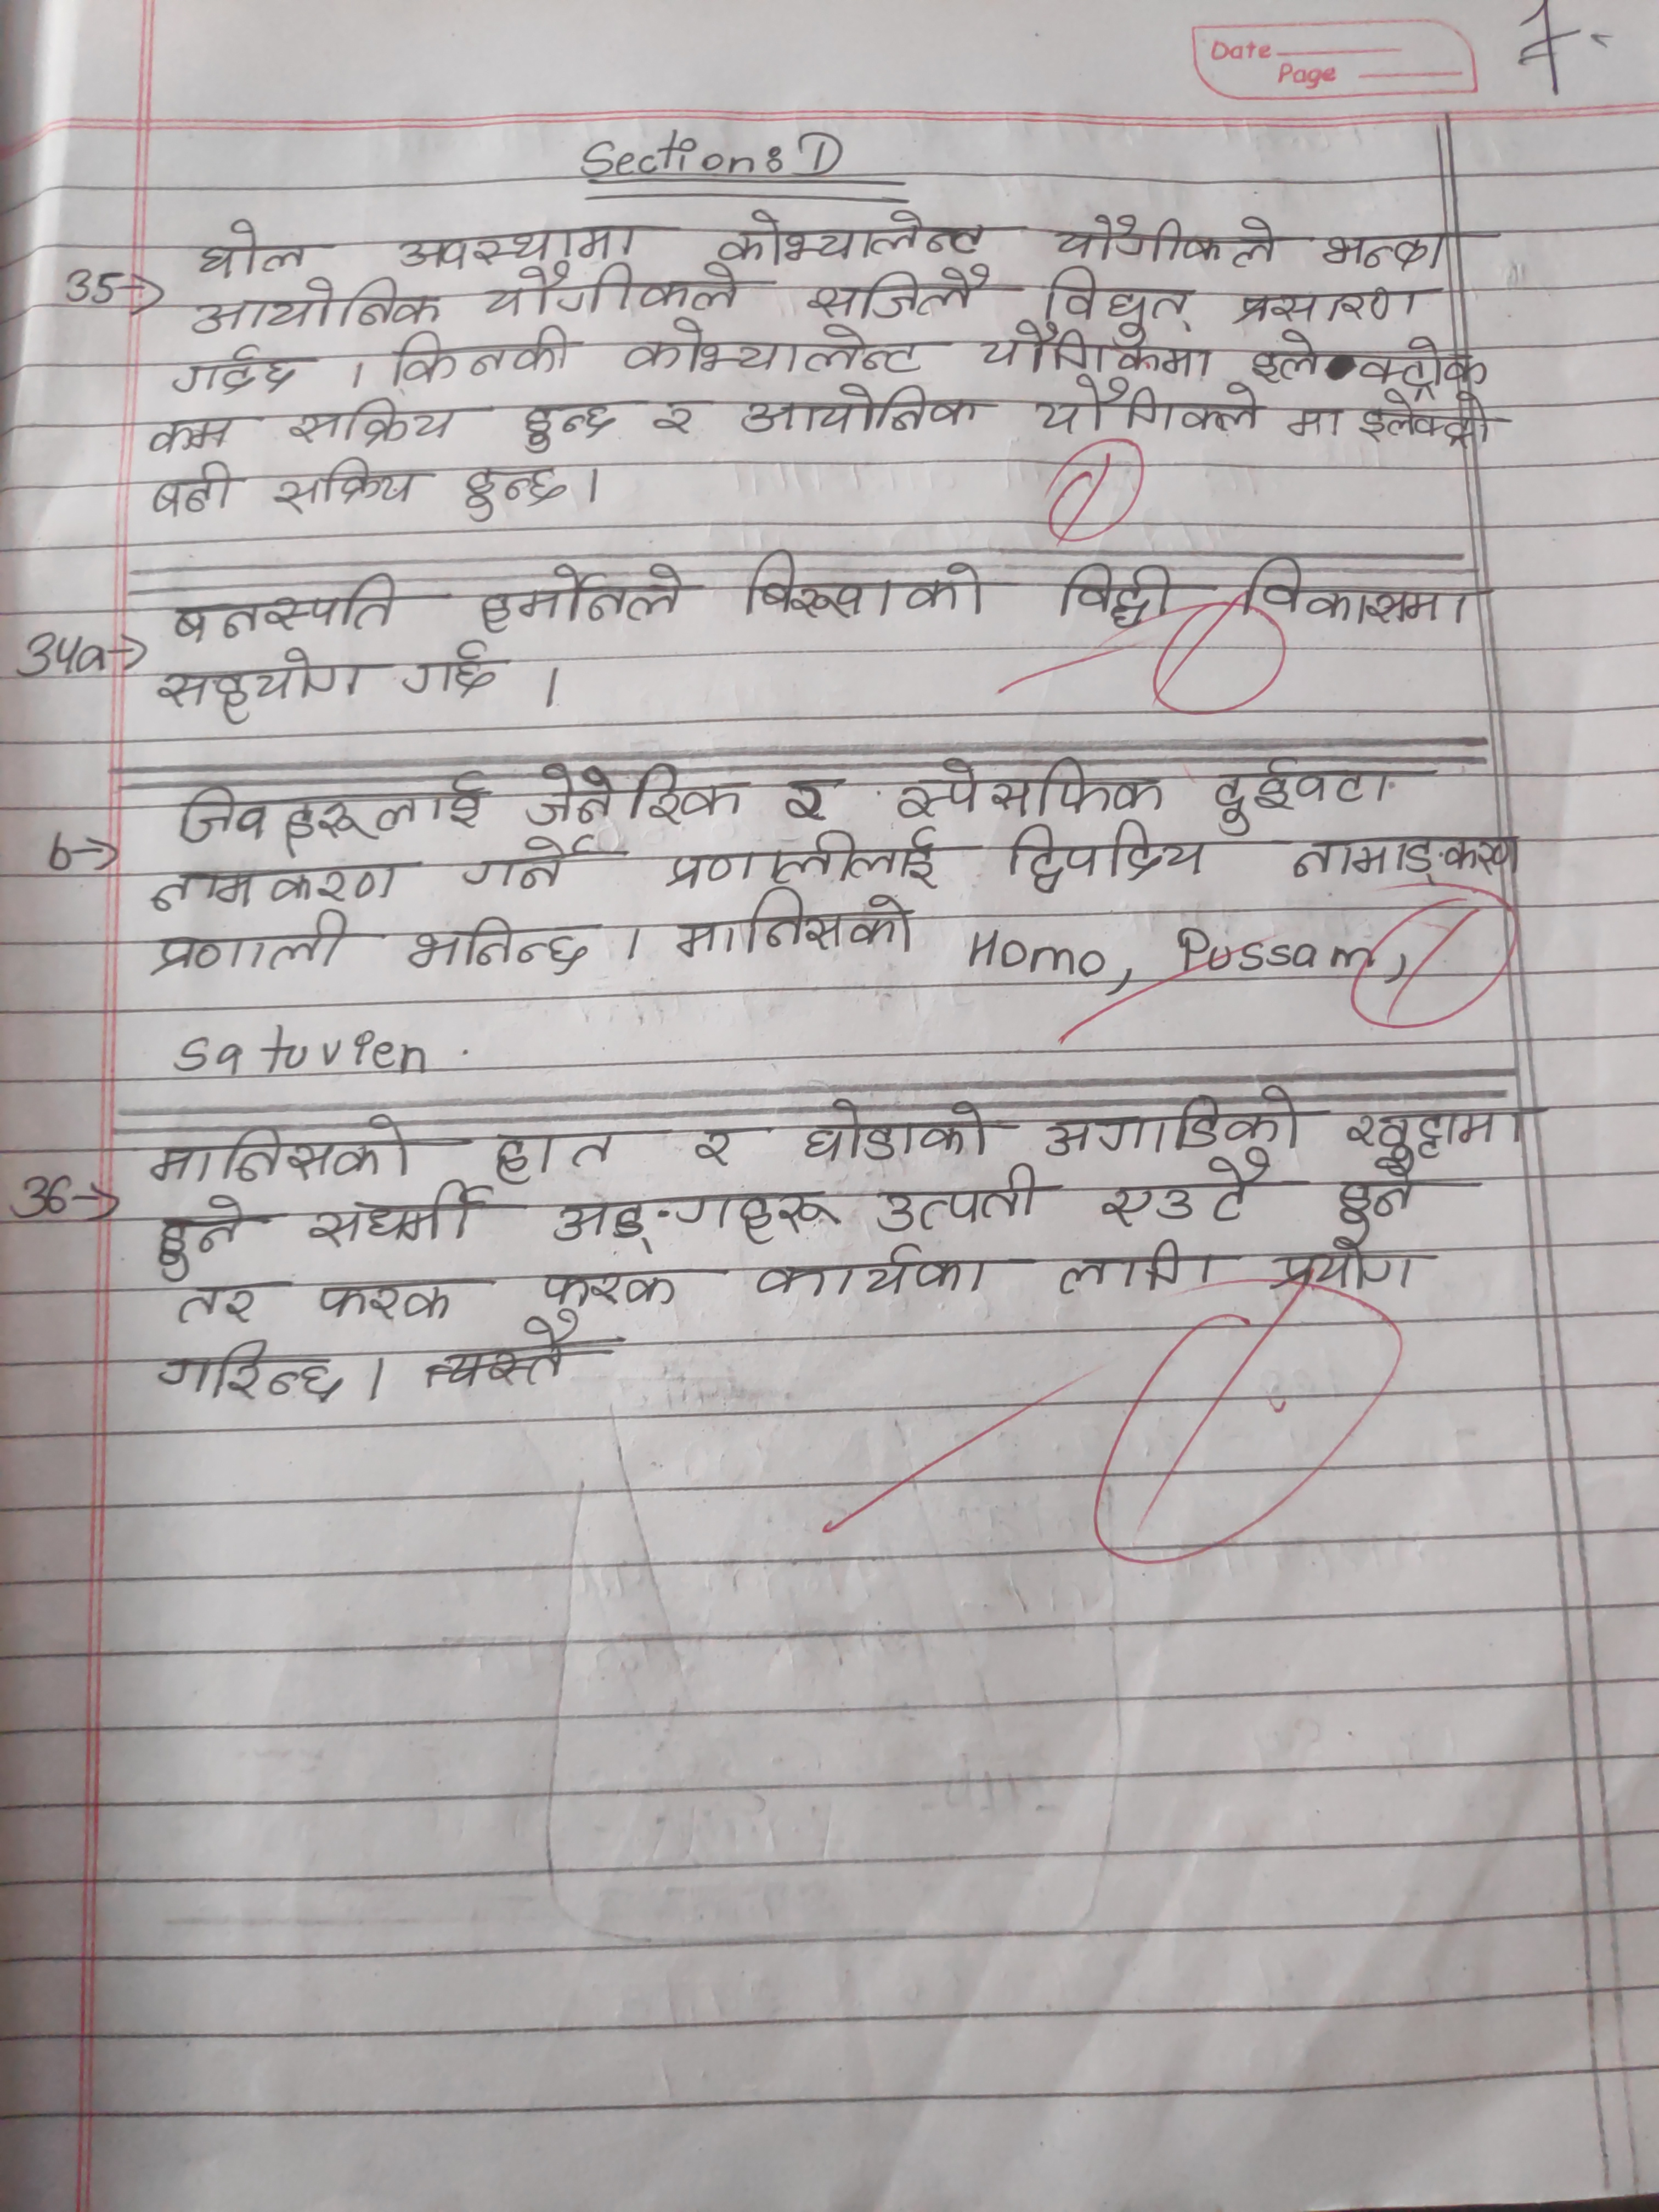text: (167, 775, 495, 848), (739, 547, 988, 625), (148, 1115, 415, 1188), (164, 570, 403, 650), (1040, 1083, 1305, 1155), (552, 1190, 845, 1254), (671, 885, 917, 961), (664, 822, 941, 890), (620, 315, 931, 374), (1243, 554, 1476, 632), (155, 646, 369, 730), (999, 817, 1220, 897), (894, 758, 1171, 820), (713, 204, 988, 263), (1283, 824, 1527, 890), (753, 1238, 990, 1306), (471, 561, 683, 632), (521, 763, 748, 829), (1094, 1148, 1281, 1228), (978, 319, 1215, 381), (1204, 759, 1398, 836), (1253, 329, 1488, 392), (483, 261, 753, 315), (145, 909, 354, 979), (871, 1160, 1054, 1238), (795, 1092, 995, 1163), (1033, 376, 1267, 437), (1054, 207, 1283, 268), (190, 279, 446, 333), (153, 1338, 350, 1406), (737, 381, 978, 435), (148, 860, 403, 911), (1344, 1099, 1534, 1165), (305, 1183, 479, 1252), (802, 261, 993, 324), (403, 913, 594, 975), (387, 329, 582, 385), (390, 226, 653, 265), (270, 455, 418, 521), (1056, 1238, 1220, 1298), (1267, 1238, 1424, 1298), (1358, 387, 1497, 453), (152, 1191, 249, 1285), (286, 397, 462, 448), (1040, 266, 1195, 322), (462, 831, 598, 892), (166, 341, 307, 399), (1060, 561, 1175, 631), (1223, 286, 1399, 327), (197, 218, 310, 282), (488, 1129, 617, 1184), (314, 1278, 451, 1329), (1328, 1163, 1420, 1238), (535, 1264, 692, 1308), (1316, 226, 1453, 272), (458, 467, 573, 521), (397, 641, 502, 697), (150, 460, 235, 523), (167, 1278, 272, 1325), (521, 402, 617, 453), (145, 408, 234, 455), (779, 772, 840, 831), (1281, 401, 1344, 444), (687, 1122, 739, 1169), (652, 394, 704, 435)
